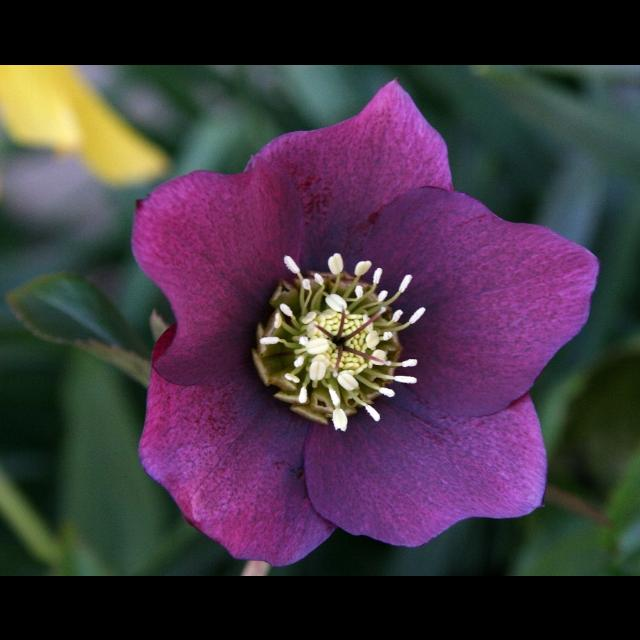Flower: (123, 77, 601, 567)
